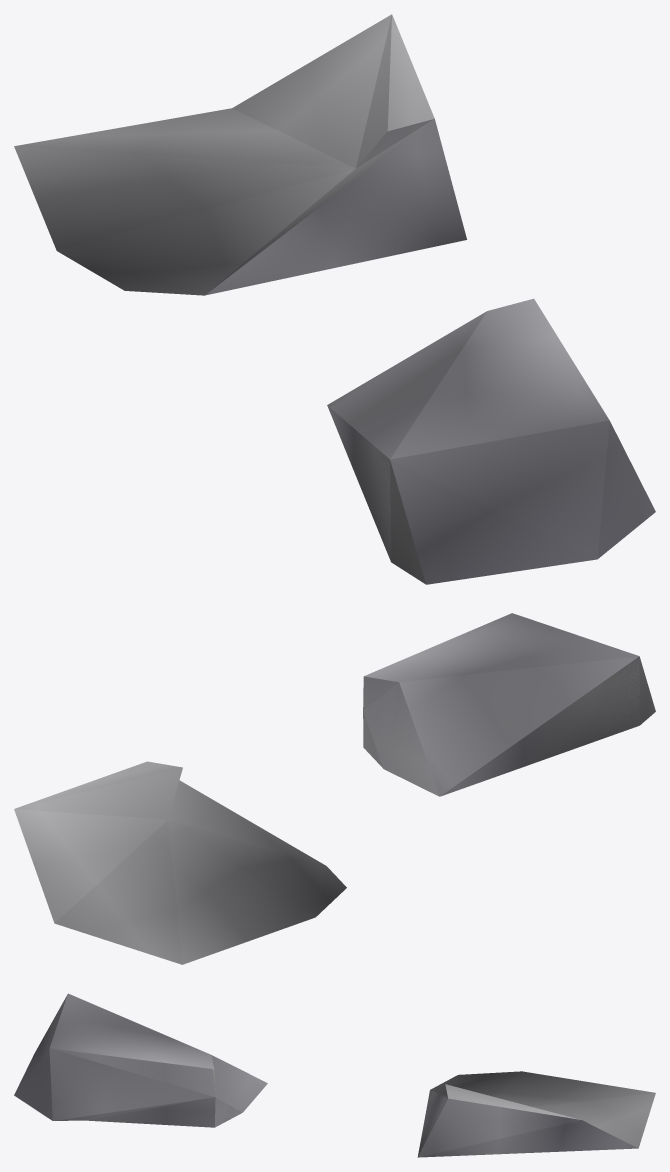
3 views of the same model, one above another, from view 1: azimuth 30°, elevation 25°; view 2: azimuth 150°, elevation 25°; view 3: azimuth 270°, elevation 25° (orthographic). The views are drawn at different scales.
Parts seen in each view (by area): view 1: Mesh_0; view 2: Mesh_0; view 3: Mesh_0.
Part boxes in pixels (x1,y1,x2,y2): Mesh_0: (14, 14, 655, 584); Mesh_0: (14, 613, 655, 964); Mesh_0: (14, 993, 655, 1157).
Bounding box in the file's own units: 45.91 × 10.27 × 98.89.
1 material, 1 textured.
